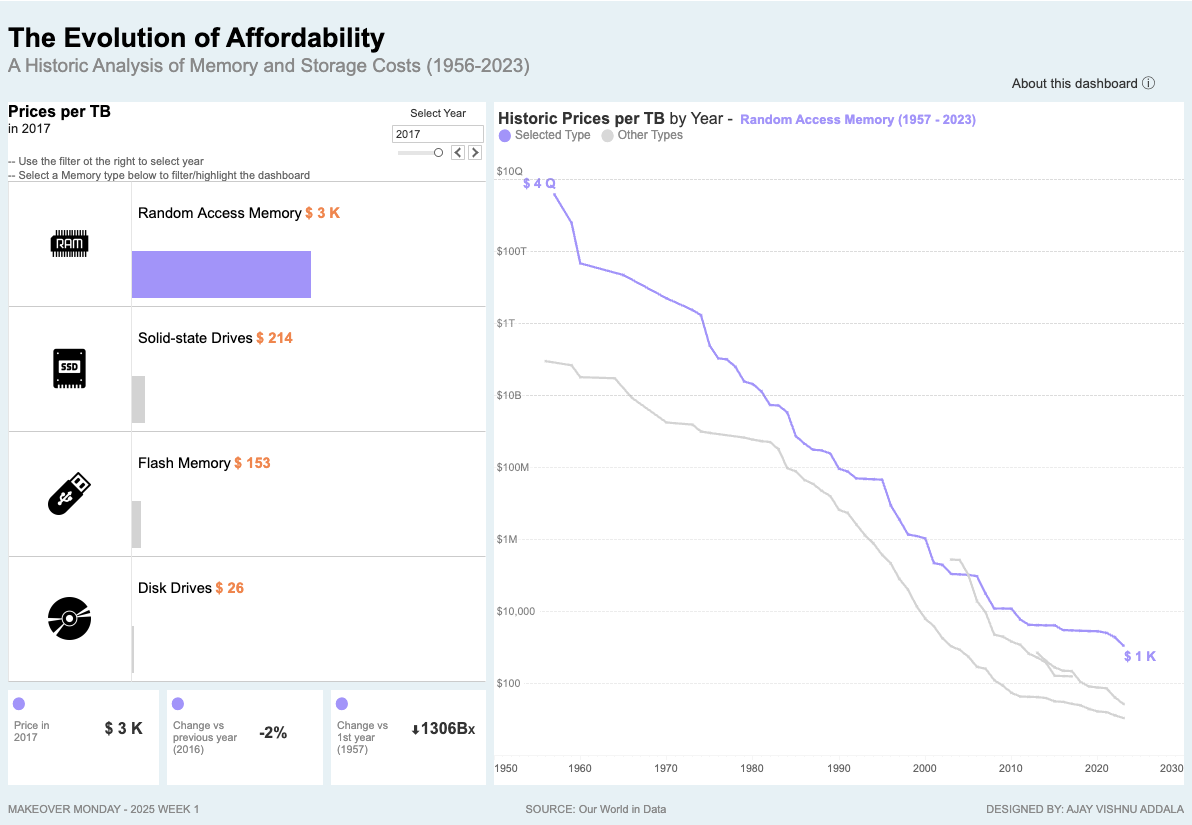

Layout of this report page (visuals, bound fields, positions):
{"tool":"tableau","page":{"name":"Storage Costs","canvas":[1200,832],"ordinal":0},"visuals":[{"type":"text","box":[4,4,1192,97]},{"type":"dashboard-object","box":[988,70,199,32]},{"type":"text","box":[4,101,490,83.3]},{"type":"worksheet","title":"Yearly Price","mark":"Line","rows":["Pivot Field Values"],"cols":["Year"],"box":[494,101,702,695]},{"type":"text","box":[499,107.1,484,190.3]},{"type":"parameter","param":"[Parameters].[Parameter 2]","box":[395,110.2,94,70.7]},{"type":"worksheet","title":"Icons","mark":"Shape","rows":["Pivot Field Names"],"box":[4,184.3,132,504.3]},{"type":"worksheet","title":"Bar","mark":"Automatic","rows":["Pivot Field Names"],"box":[136,184.3,358,504.3]},{"type":"worksheet","title":"Value_Year","mark":"Automatic","rows":["Calculation_809733170816389139"],"cols":["Calculation_809733170145366024"],"box":[4,688.6,163,107.4]},{"type":"worksheet","title":"ChangevsPYear","mark":"Text","rows":["Year Text (copy)_809733170853797932"],"cols":["Calculation_809733170145366024"],"box":[167,688.6,164,107.4]},{"type":"worksheet","title":"Changevs1stYear","mark":"Automatic","rows":["Year Text_Prev (copy)_809733170866929715"],"cols":["Calculation_809733170145366024"],"box":[331,688.6,163,107.4]},{"type":"text","box":[4,796,397.3,32]},{"type":"text","box":[401.3,796,397.3,32]},{"type":"text","box":[798.7,796,397.3,32]}]}

Visuals, with their boxes in screenshot pixels (x1, y1, x2, y2), scaled from the page's 1200x832 canvas onto the 1192x825 screenshot:
text: pyautogui.locateOnScreen(4, 4, 1188, 100)
dashboard-object: pyautogui.locateOnScreen(981, 69, 1179, 101)
text: pyautogui.locateOnScreen(4, 100, 491, 183)
"Yearly Price" worksheet (Line marks): pyautogui.locateOnScreen(491, 100, 1188, 789)
text: pyautogui.locateOnScreen(496, 106, 976, 295)
parameter: pyautogui.locateOnScreen(392, 109, 486, 179)
"Icons" worksheet (Shape marks): pyautogui.locateOnScreen(4, 183, 135, 683)
"Bar" worksheet: pyautogui.locateOnScreen(135, 183, 491, 683)
"Value_Year" worksheet: pyautogui.locateOnScreen(4, 683, 166, 789)
"ChangevsPYear" worksheet (Text marks): pyautogui.locateOnScreen(166, 683, 329, 789)
"Changevs1stYear" worksheet: pyautogui.locateOnScreen(329, 683, 491, 789)
text: pyautogui.locateOnScreen(4, 789, 399, 821)
text: pyautogui.locateOnScreen(399, 789, 793, 821)
text: pyautogui.locateOnScreen(793, 789, 1188, 821)
